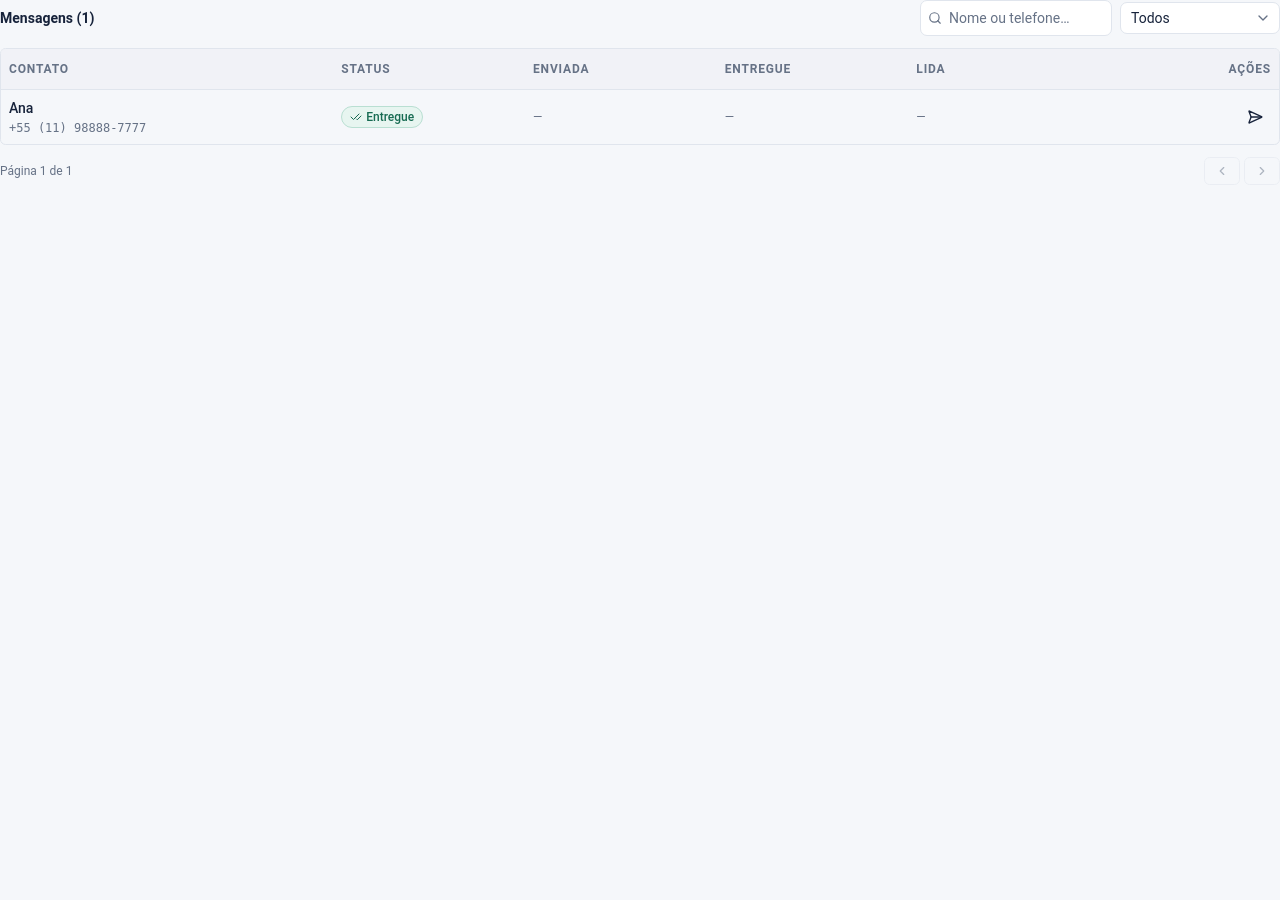
it: MessagesTable — disparar novamente › o diálogo descreve o que o backend faz: reenfileira ESTA mensagem, sem criar outra
The width and height of the screenshot is (1280, 900).
Click the button named "disparar novamente para este contato": [1255, 116] box top-left (1239, 100), bottom-right (1271, 132)
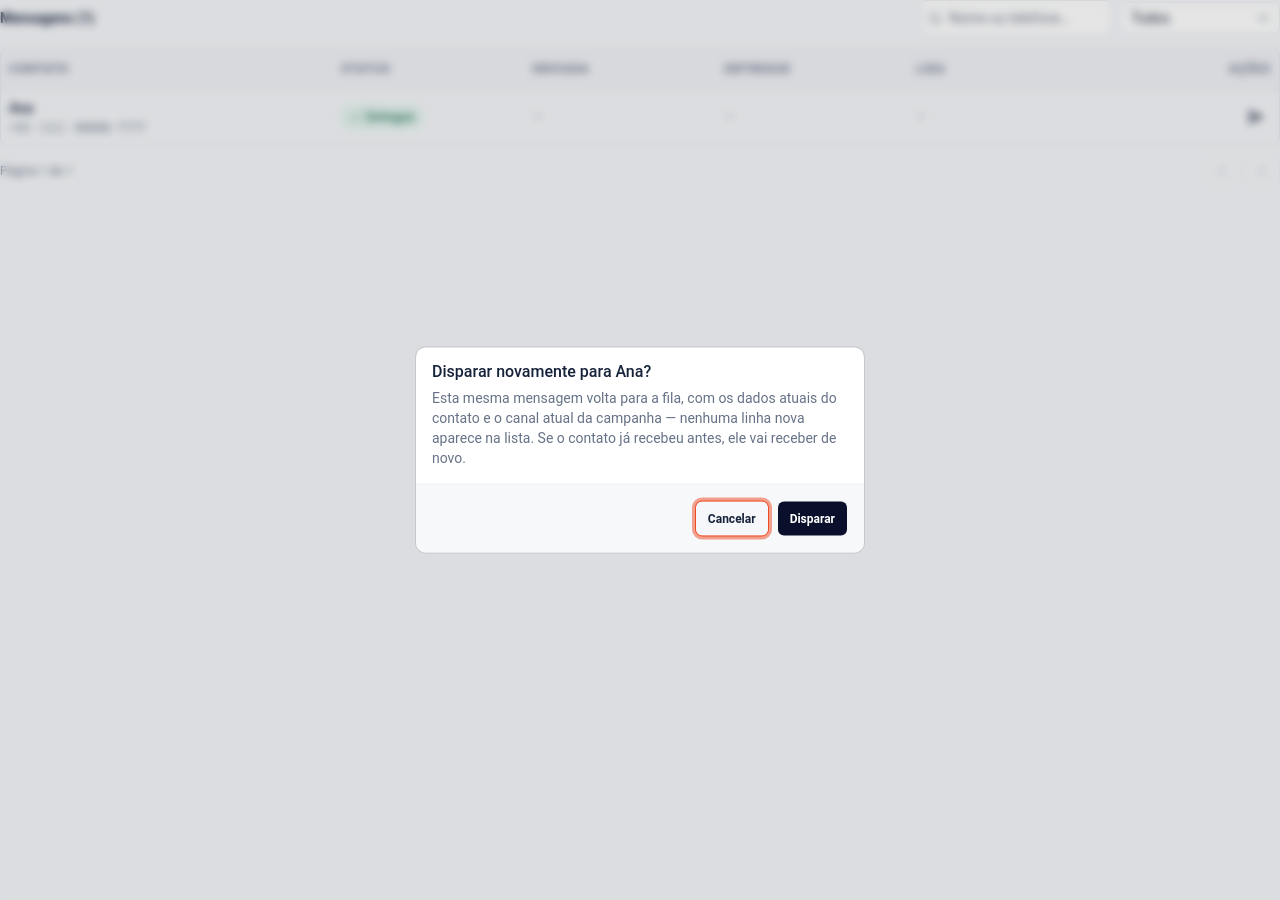
Expected: the dialog does not show "nova mensagem", top-left (416, 348), bottom-right (864, 552)
Expected: the dialog shows "mesma mensagem", top-left (432, 390), bottom-right (837, 466)
